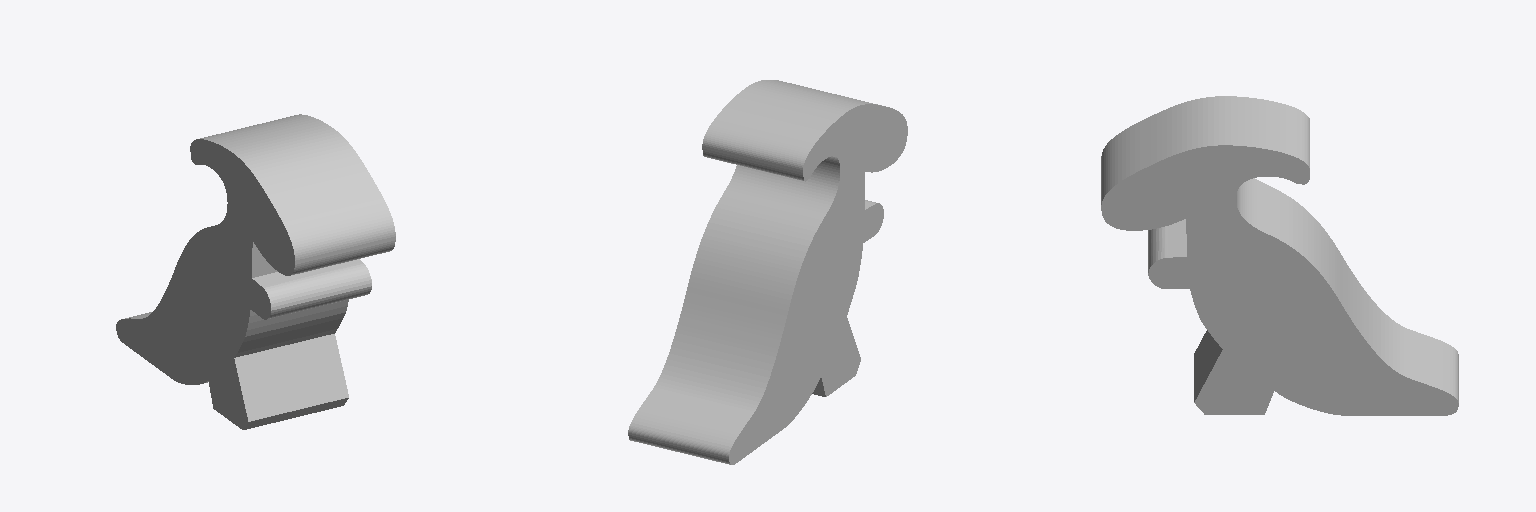
The model's file is dinoVerde.obj.
3 views of the same model, side by side, from view 1: azimuth 30°, elevation 25°; view 2: azimuth 150°, elevation 25°; view 3: azimuth 270°, elevation 25° (orthographic).
Visible parts, largest first — view 1: dino1-verde; view 2: dino1-verde; view 3: dino1-verde.
Boxes of the visible parts, x1,y1,x2,y2 form: dino1-verde: [116, 114, 395, 429]; dino1-verde: [628, 80, 907, 464]; dino1-verde: [1101, 96, 1458, 415].
Bounding box in the file's own units: 3.2 × 8.21 × 9.83.